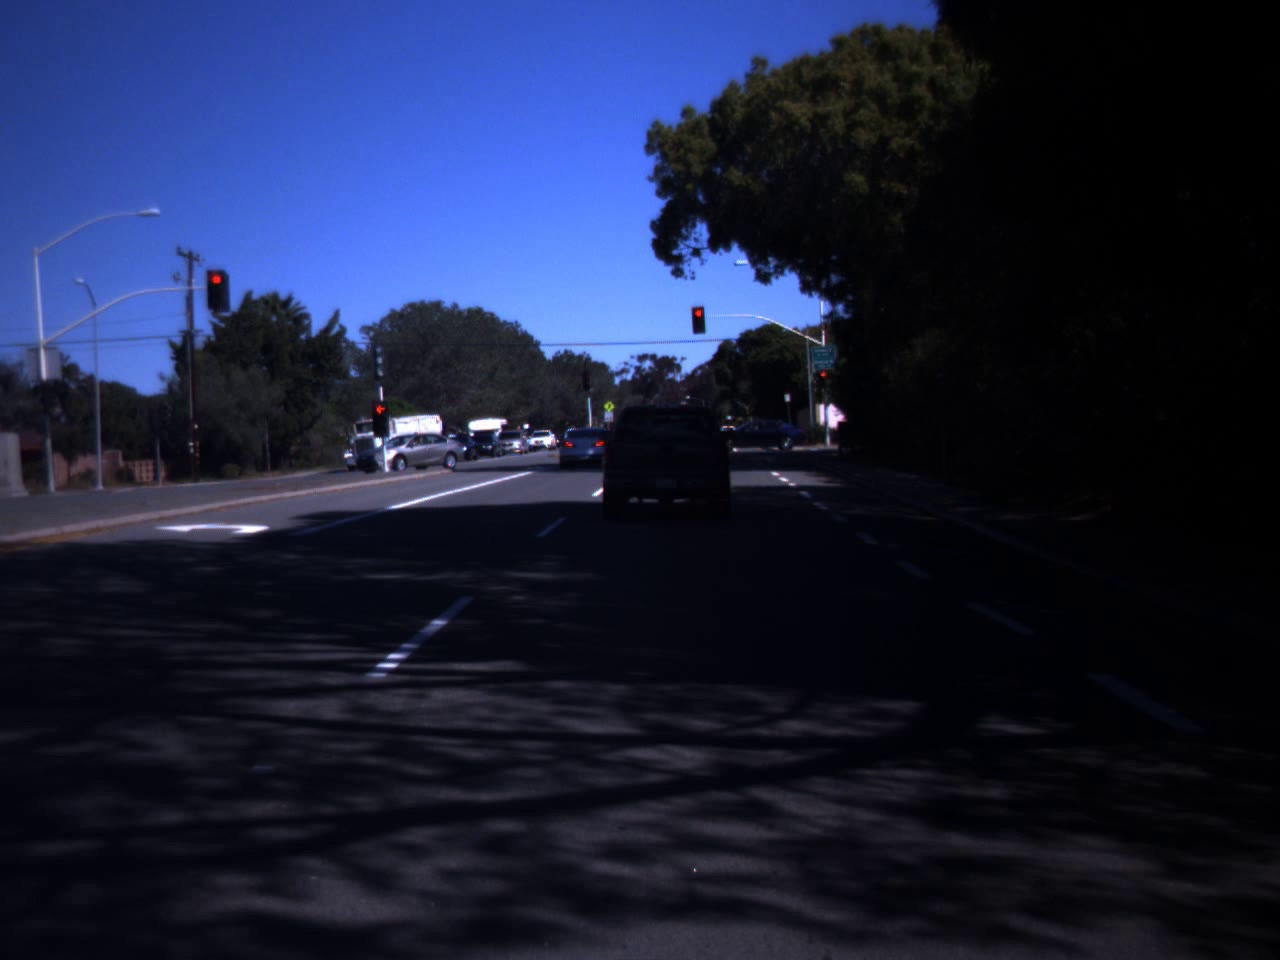stop: (686, 304, 707, 340), (370, 403, 391, 430), (208, 273, 226, 301), (817, 370, 829, 388)
